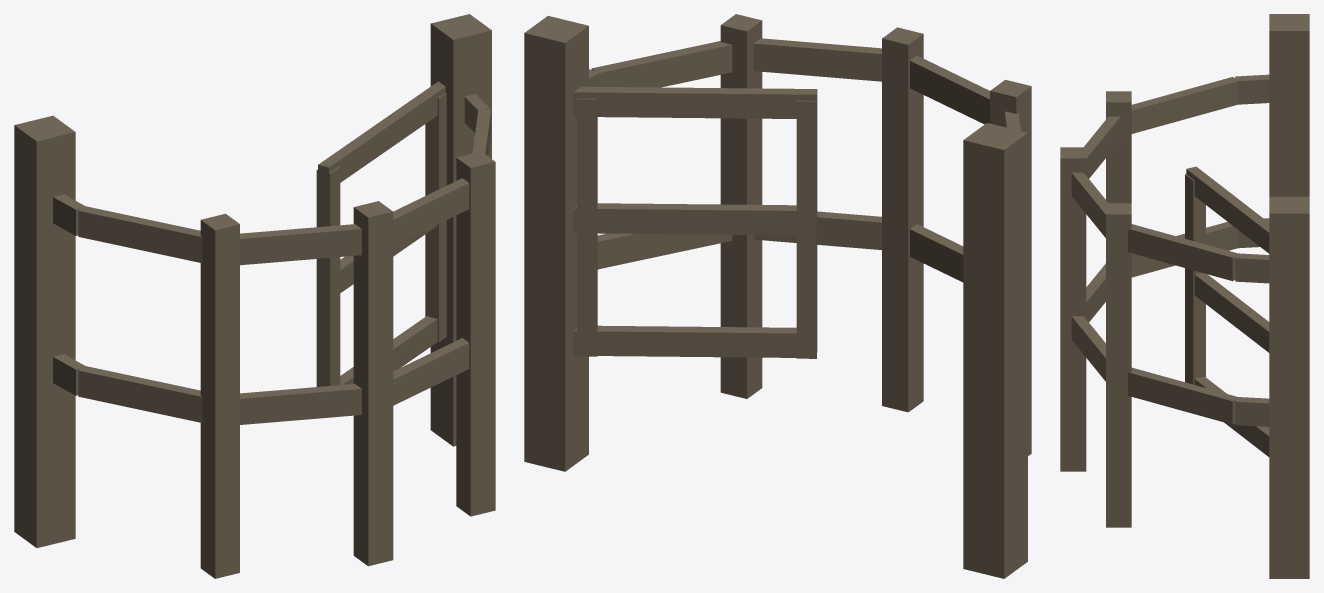
Rendered from boundary.gate.kissing_b.glb.
3 views of the same model, side by side, from view 1: azimuth 30°, elevation 25°; view 2: azimuth 150°, elevation 25°; view 3: azimuth 270°, elevation 25° (orthographic). The views are drawn at different scales.
Visible parts, largest first — view 1: main__glaze_765, main__galv_765, main__concrete_765; view 2: main__glaze_765, main__galv_765, main__concrete_765; view 3: main__glaze_765, main__galv_765, main__concrete_765.
Boxes of the visible parts, x1,y1,x2,y2 form: main__glaze_765: (14, 14, 495, 578); main__galv_765: (53, 81, 490, 424); main__concrete_765: (316, 92, 446, 386); main__glaze_765: (524, 14, 1031, 578); main__galv_765: (573, 38, 1020, 357); main__concrete_765: (577, 95, 817, 358); main__glaze_765: (1060, 14, 1309, 578); main__galv_765: (1071, 74, 1269, 456); main__concrete_765: (1185, 174, 1205, 384).
Bounding box in the file's own units: 1.64 × 1.4 × 0.865.
